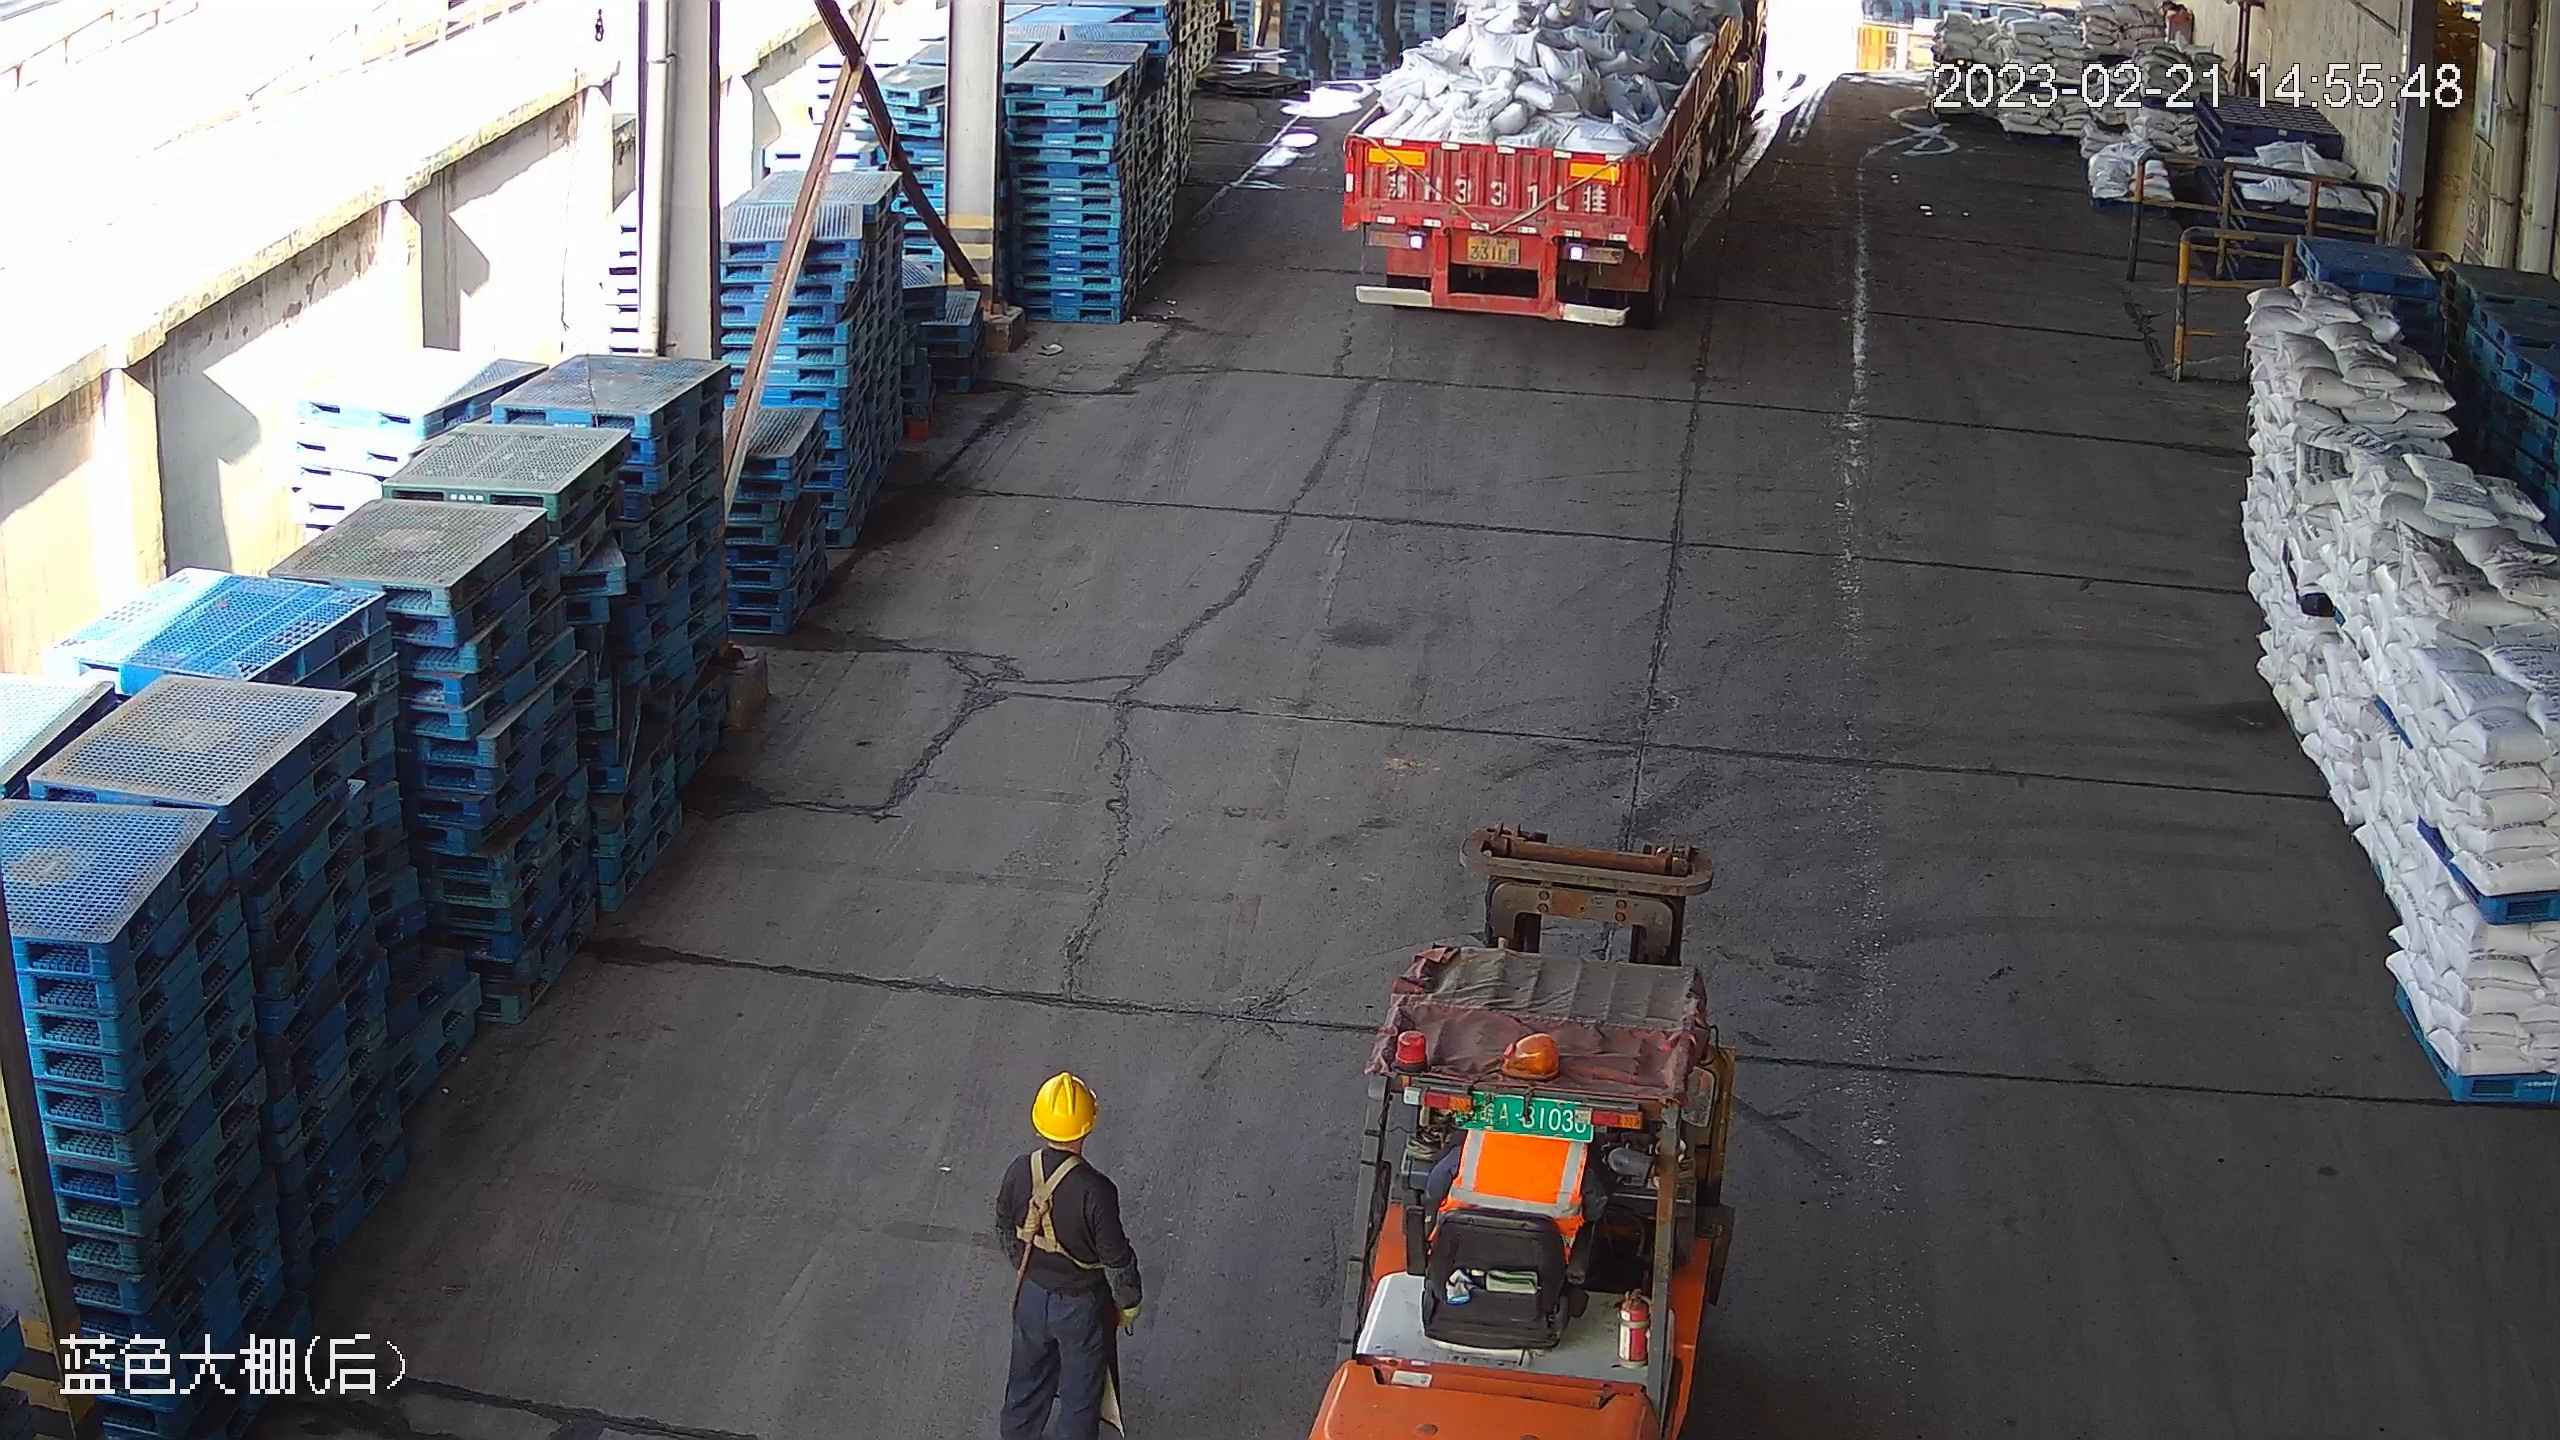belt: (1013, 1151, 1088, 1260)
head: (1002, 1074, 1116, 1206)
helmet: (1032, 1074, 1099, 1136)
people: (990, 1069, 1151, 1440)
truck: (1341, 1, 1779, 330)
